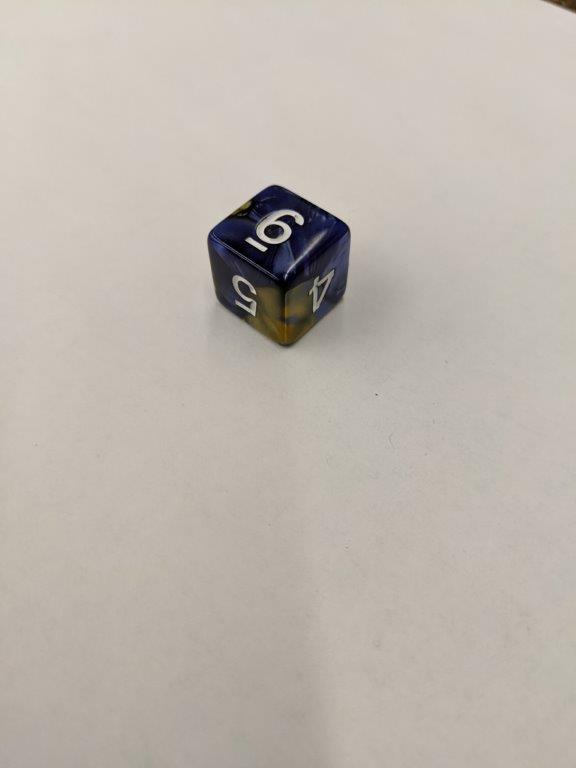d6-6: (206, 184, 352, 350)
